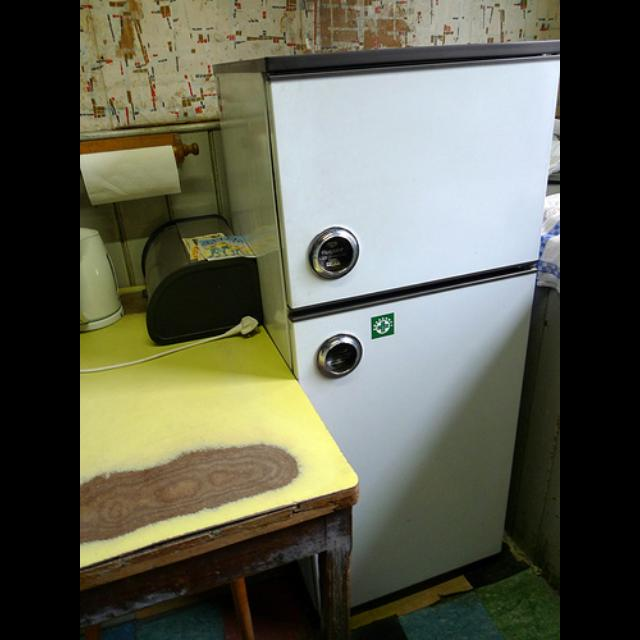Refrigerator: (209, 42, 557, 608)
